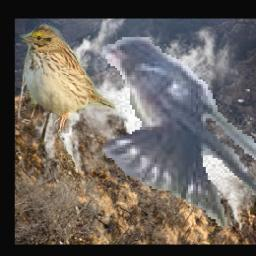Sparrow: (19, 22, 116, 133)
Swallow: (98, 37, 256, 230)
